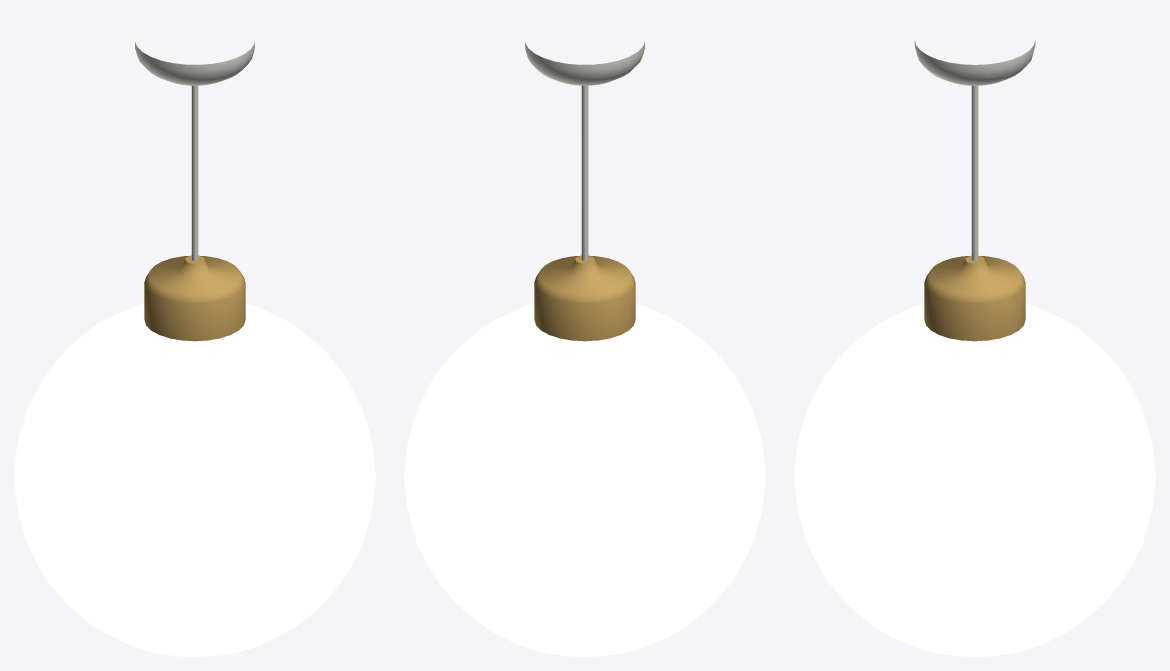
Rendered from lamp_5.glb.
The picture shows the model from 3 angles, left to right: view 1: azimuth 30°, elevation 25°; view 2: azimuth 150°, elevation 25°; view 3: azimuth 270°, elevation 25°; orthographic projection.
Parts seen in each view (by area): view 1: lamp_v3; view 2: lamp_v3; view 3: lamp_v3.
Part boxes in pixels (bbox=[...]): lamp_v3: bbox=[14, 41, 375, 656]; lamp_v3: bbox=[404, 41, 765, 656]; lamp_v3: bbox=[794, 40, 1155, 656].
Bounding box in the file's own units: 0.3 × 0.55 × 0.3.
